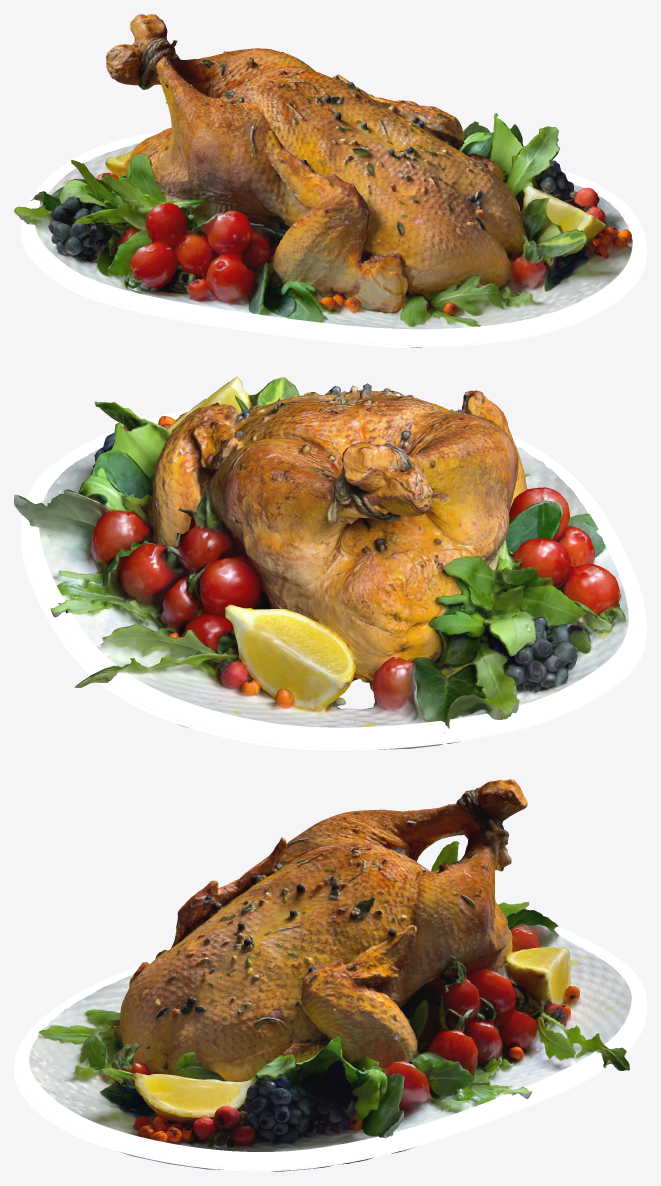
3 renders of one model, top to bottom at view 1: azimuth 30°, elevation 25°; view 2: azimuth 150°, elevation 25°; view 3: azimuth 270°, elevation 25°, orthographic. The views are drawn at different scales.
Parts seen in each view (by area): view 1: Object_4, Object_5; view 2: Object_4, Object_5; view 3: Object_4, Object_5.
Boxes of the visible parts, left/top/right/bottom form: Object_4: left=14, top=14, right=632, bottom=347; Object_5: left=20, top=130, right=646, bottom=347; Object_4: left=14, top=376, right=628, bottom=749; Object_5: left=20, top=408, right=646, bottom=750; Object_4: left=29, top=779, right=631, bottom=1171; Object_5: left=14, top=926, right=646, bottom=1171.
Bounding box in the file's own units: 0.3584 × 0.1323 × 0.3668.
2 materials, 1 textured.
